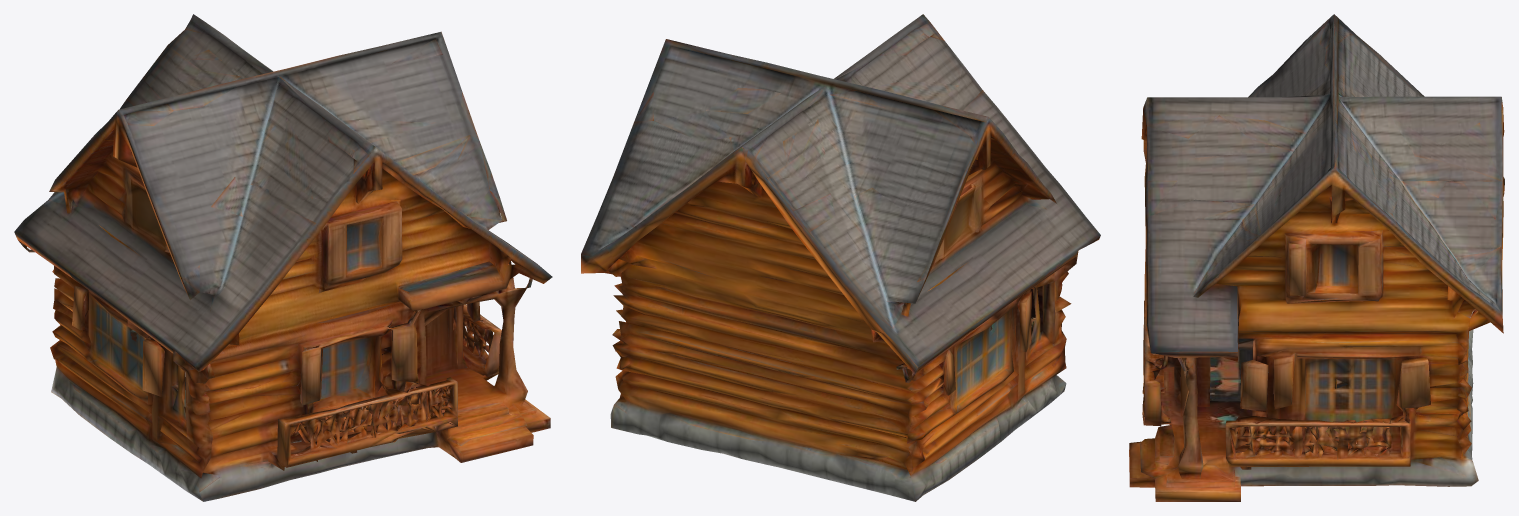
Rendered from nhacap4_opt.glb.
3 views of the same model, side by side, from view 1: azimuth 30°, elevation 25°; view 2: azimuth 150°, elevation 25°; view 3: azimuth 270°, elevation 25° (orthographic). The views are drawn at different scales.
Parts seen in each view (by area): view 1: nhacap4_opt; view 2: nhacap4_opt; view 3: nhacap4_opt.
Boxes of the visible parts, x1,y1,x2,y2 form: nhacap4_opt: (14,14,552,501); nhacap4_opt: (581,14,1100,501); nhacap4_opt: (1129,14,1504,501).
Size of the model in its own units: 2 by 1.79 by 1.86.
Materials: 1 (1 with a texture image).
